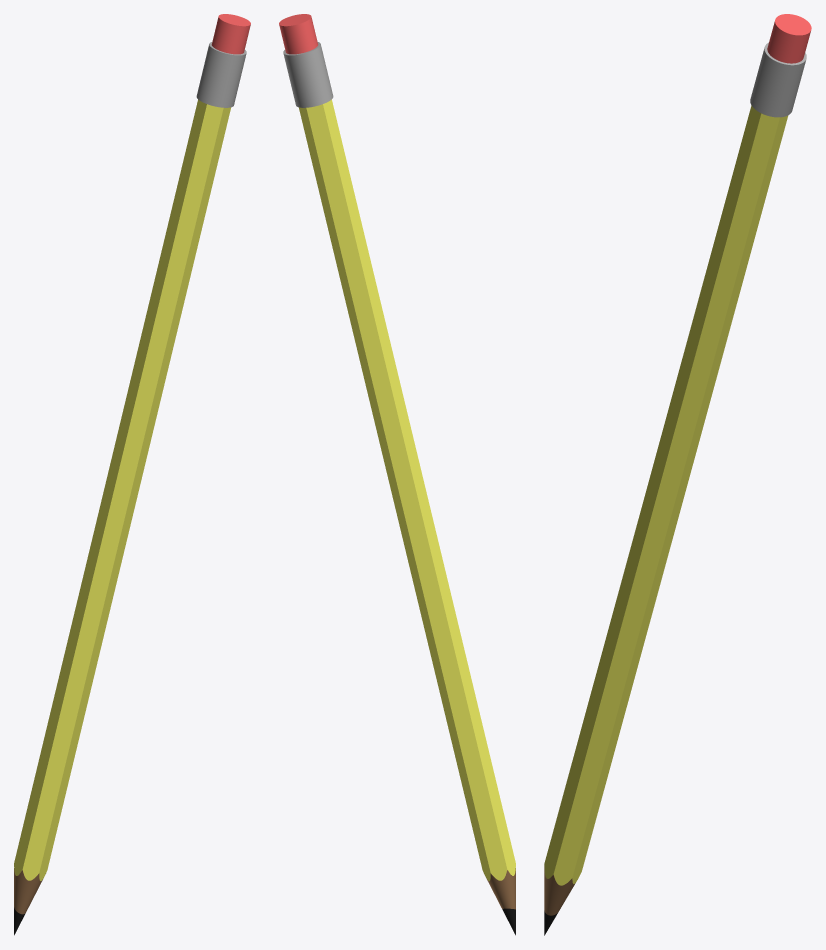
The model's file is Pencil.dae.
3 renders of one model, left to right at view 1: azimuth 30°, elevation 25°; view 2: azimuth 150°, elevation 25°; view 3: azimuth 330°, elevation 25°, orthographic. The views are drawn at different scales.
Parts seen in each view (by area): view 1: a3fd508d-e3d3-4943-887b-d0ce1dee0796, afcc43d0-3314-42c3-adc1-89590a0ffc33, a4818f71-39f8-4bf4-b4ff-11dd6257e6f0, eb4196e7-6926-46a7-bd7a-70c53a81ca7d; view 2: a3fd508d-e3d3-4943-887b-d0ce1dee0796, afcc43d0-3314-42c3-adc1-89590a0ffc33, a4818f71-39f8-4bf4-b4ff-11dd6257e6f0, eb4196e7-6926-46a7-bd7a-70c53a81ca7d; view 3: a3fd508d-e3d3-4943-887b-d0ce1dee0796, afcc43d0-3314-42c3-adc1-89590a0ffc33, a4818f71-39f8-4bf4-b4ff-11dd6257e6f0, eb4196e7-6926-46a7-bd7a-70c53a81ca7d.
Boxes of the visible parts, x1=… form: a3fd508d-e3d3-4943-887b-d0ce1dee0796: x1=14, y1=99, x2=230, y2=880; afcc43d0-3314-42c3-adc1-89590a0ffc33: x1=196, y1=42, x2=246, y2=107; a4818f71-39f8-4bf4-b4ff-11dd6257e6f0: x1=211, y1=14, x2=250, y2=54; eb4196e7-6926-46a7-bd7a-70c53a81ca7d: x1=14, y1=868, x2=42, y2=914; a3fd508d-e3d3-4943-887b-d0ce1dee0796: x1=299, y1=99, x2=515, y2=880; afcc43d0-3314-42c3-adc1-89590a0ffc33: x1=283, y1=42, x2=333, y2=107; a4818f71-39f8-4bf4-b4ff-11dd6257e6f0: x1=279, y1=14, x2=318, y2=54; eb4196e7-6926-46a7-bd7a-70c53a81ca7d: x1=487, y1=868, x2=515, y2=909; a3fd508d-e3d3-4943-887b-d0ce1dee0796: x1=544, y1=105, x2=788, y2=885; afcc43d0-3314-42c3-adc1-89590a0ffc33: x1=750, y1=42, x2=806, y2=117; a4818f71-39f8-4bf4-b4ff-11dd6257e6f0: x1=767, y1=14, x2=811, y2=63; eb4196e7-6926-46a7-bd7a-70c53a81ca7d: x1=544, y1=867, x2=575, y2=915.
Size of the model in its own units: 47.54 by 6.77 by 168.
